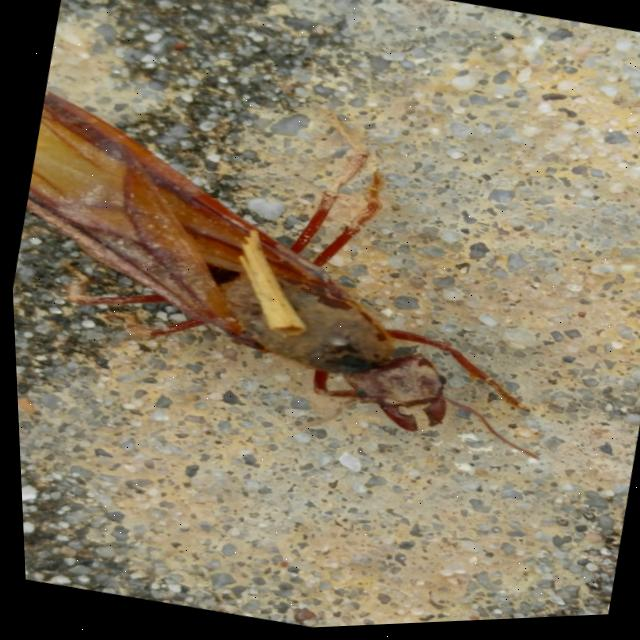Alive-Female-Alate: (3, 64, 597, 484)
